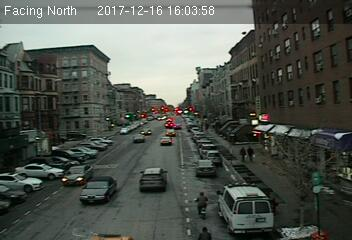bicycle: (192, 192, 210, 222)
car: (78, 176, 116, 201), (61, 162, 93, 183), (138, 169, 168, 191), (194, 159, 216, 176), (132, 133, 144, 142), (160, 136, 171, 145)
police: (216, 181, 276, 234)
